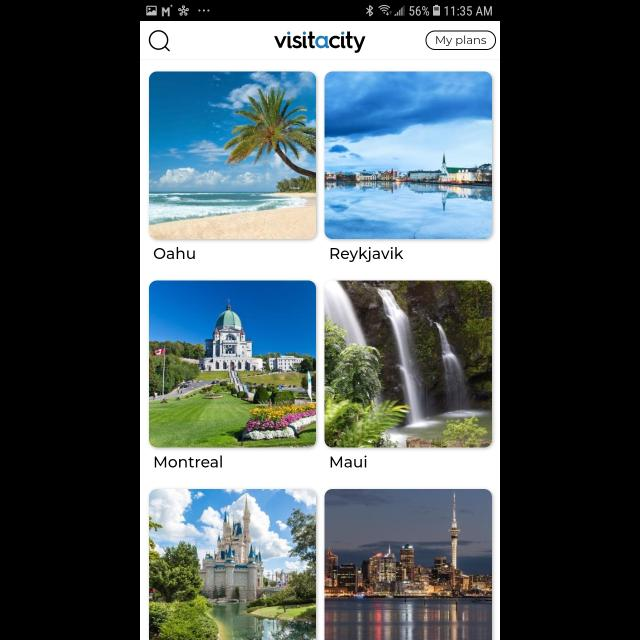icon: (149, 31, 171, 53)
image: (324, 280, 492, 448), (324, 72, 492, 240), (150, 280, 316, 448), (150, 72, 316, 240), (324, 488, 492, 640), (150, 488, 316, 640), (274, 32, 366, 54)
text: (331, 248, 404, 262), (154, 456, 222, 468), (154, 247, 196, 260), (331, 456, 367, 468)
textbutton: (426, 31, 496, 51)
uppertaskbar: (140, 1, 500, 22)
